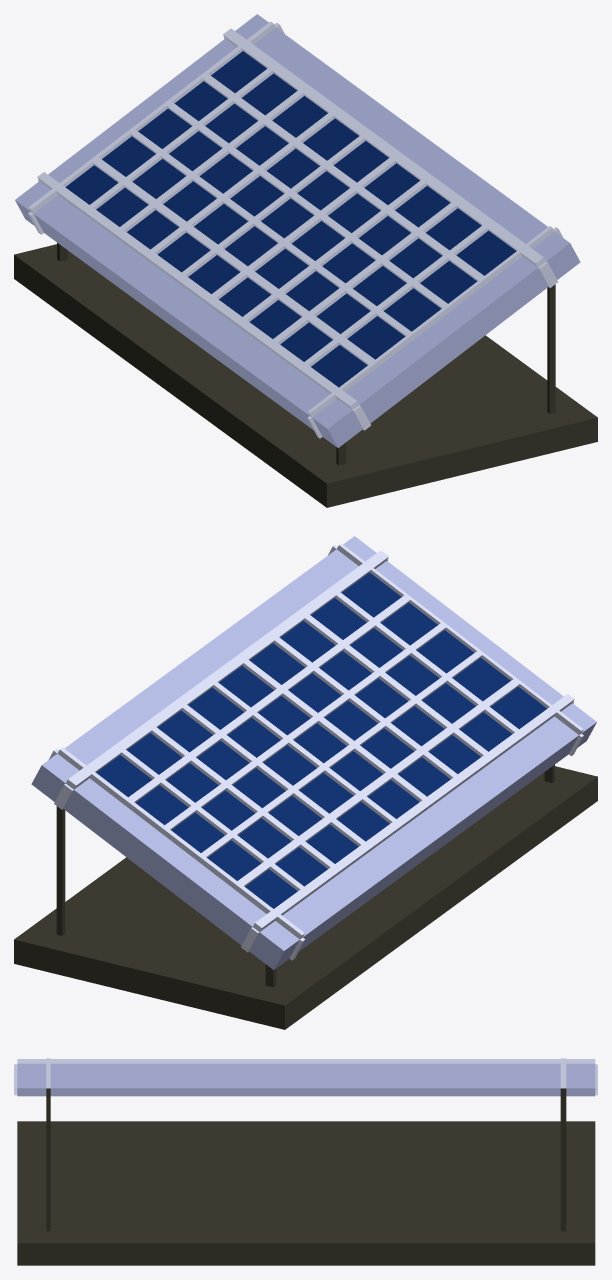
File: Solar.fbx
3 views of the same model, one above another, from view 1: azimuth 30°, elevation 25°; view 2: azimuth 150°, elevation 25°; view 3: azimuth 270°, elevation 25° (orthographic). The views are drawn at different scales.
Parts seen in each view (by area): view 1: Cube.002, Cube, Cube.001, Cube.003; view 2: Cube.002, Cube, Cube.001, Cube.003; view 3: Cube, Cube.003, Cube.001.
Part boxes in pixels (bbox=[...]): Cube.002: bbox=[65, 51, 516, 387]; Cube: bbox=[14, 242, 597, 507]; Cube.001: bbox=[28, 21, 563, 438]; Cube.003: bbox=[15, 14, 580, 447]; Cube.002: bbox=[96, 572, 546, 908]; Cube: bbox=[14, 764, 597, 1029]; Cube.001: bbox=[48, 543, 583, 960]; Cube.003: bbox=[31, 536, 596, 969]; Cube: bbox=[17, 1088, 595, 1265]; Cube.003: bbox=[17, 1063, 595, 1096]; Cube.001: bbox=[14, 1058, 597, 1095].
Bounding box in the file's own units: 101 × 74.12 × 202.
